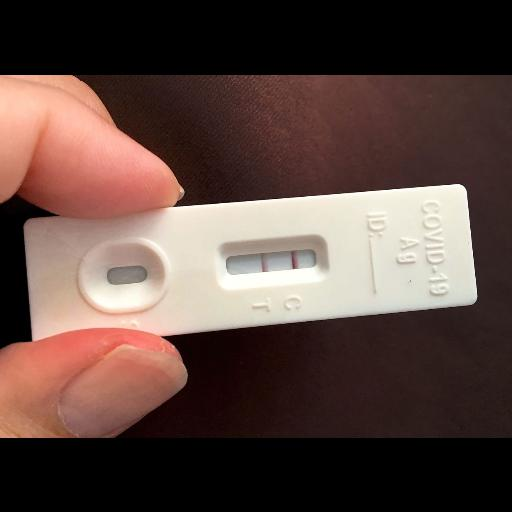Pos: (25, 182, 478, 344)
